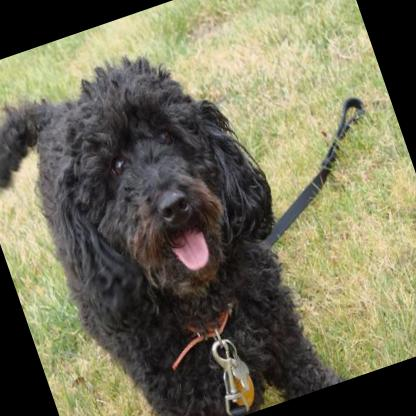miniature_poodle: (0, 17, 336, 416)
